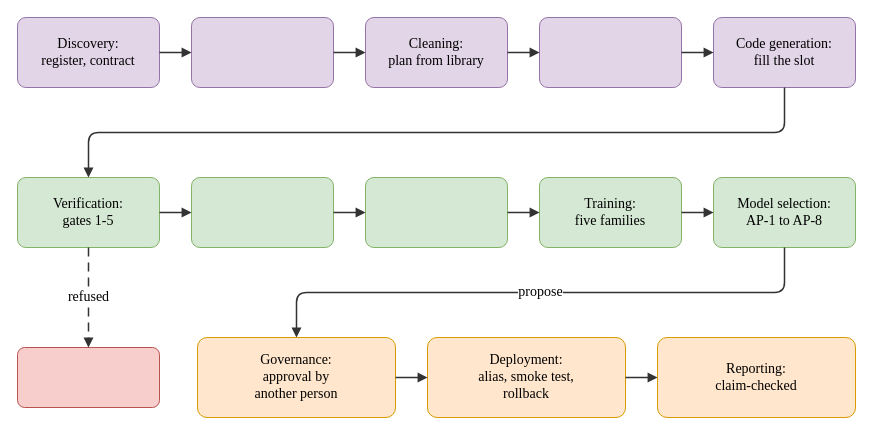
The diagram is 873 pixels wide and 435 high, and some of its shapes have lost their labels. Here are the shapes that lost their labels. From the top down, the centre of each, then its label:
At (262,52): "Profiling: quality score".
At (610,52): "Spark planning: route, size".
At (262,212): "Execution: dry run, gate 6".
At (436,212): "Execution: full run, gates 7-9".
At (88,377): "Escalation with evidence".
